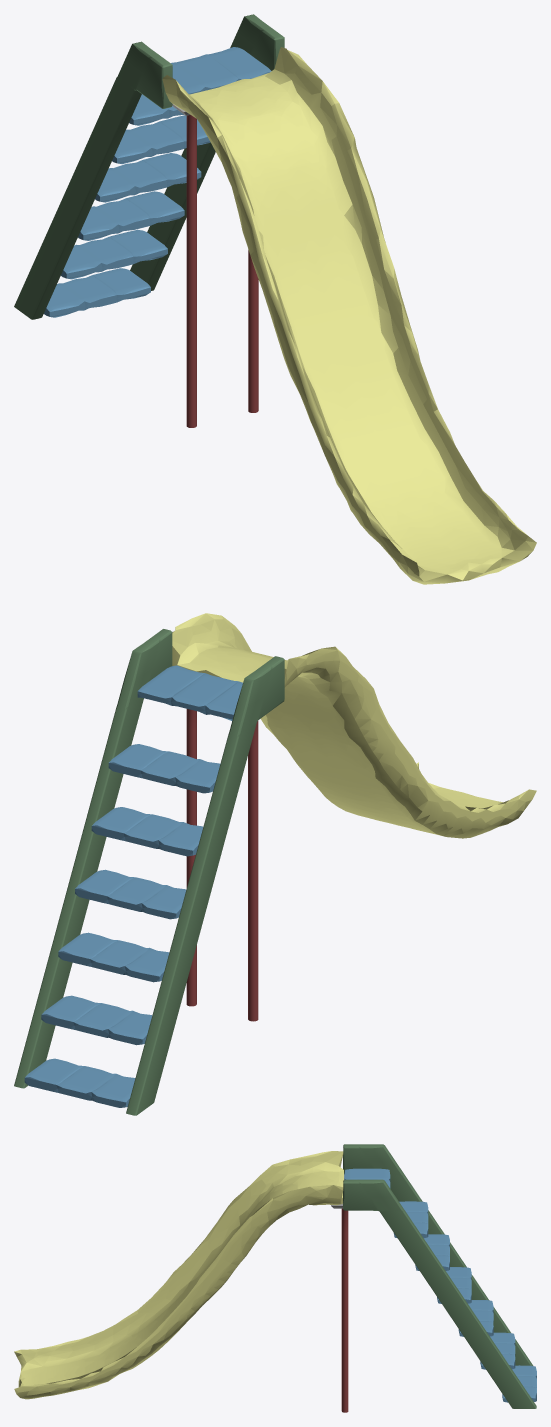
File: slide1.fbx
The picture shows the model from 3 angles, top to bottom: view 1: azimuth 30°, elevation 25°; view 2: azimuth 150°, elevation 25°; view 3: azimuth 270°, elevation 25°; orthographic projection. The views are drawn at different scales.
Visible parts, largest first — view 1: Slide:polySurface1; view 2: Slide:polySurface1; view 3: Slide:polySurface1.
Boxes of the visible parts, bbox=[...] form: Slide:polySurface1: bbox=[14, 14, 536, 584]; Slide:polySurface1: bbox=[14, 613, 536, 1115]; Slide:polySurface1: bbox=[14, 1144, 536, 1412].
Size of the model in its own units: 4.04 by 11.43 by 22.72.
